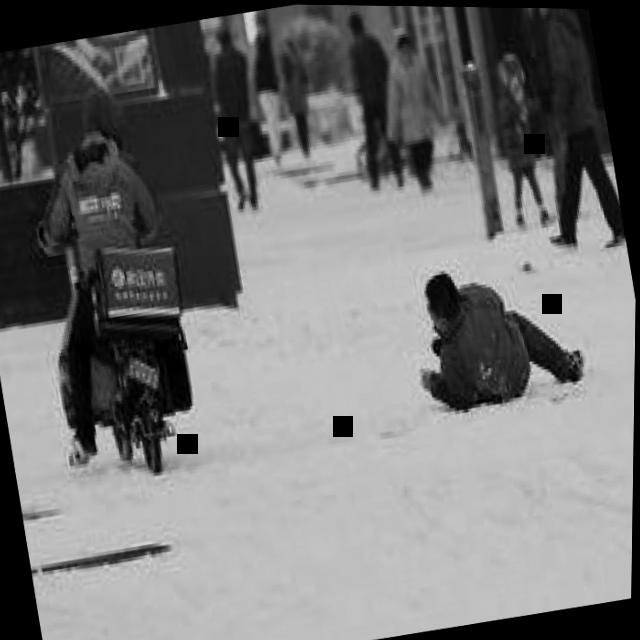Fall-Detected: (389, 230, 593, 424)
